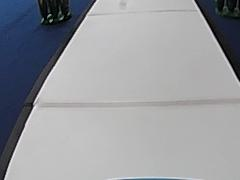corn: (35, 0, 72, 25), (215, 0, 238, 18)
